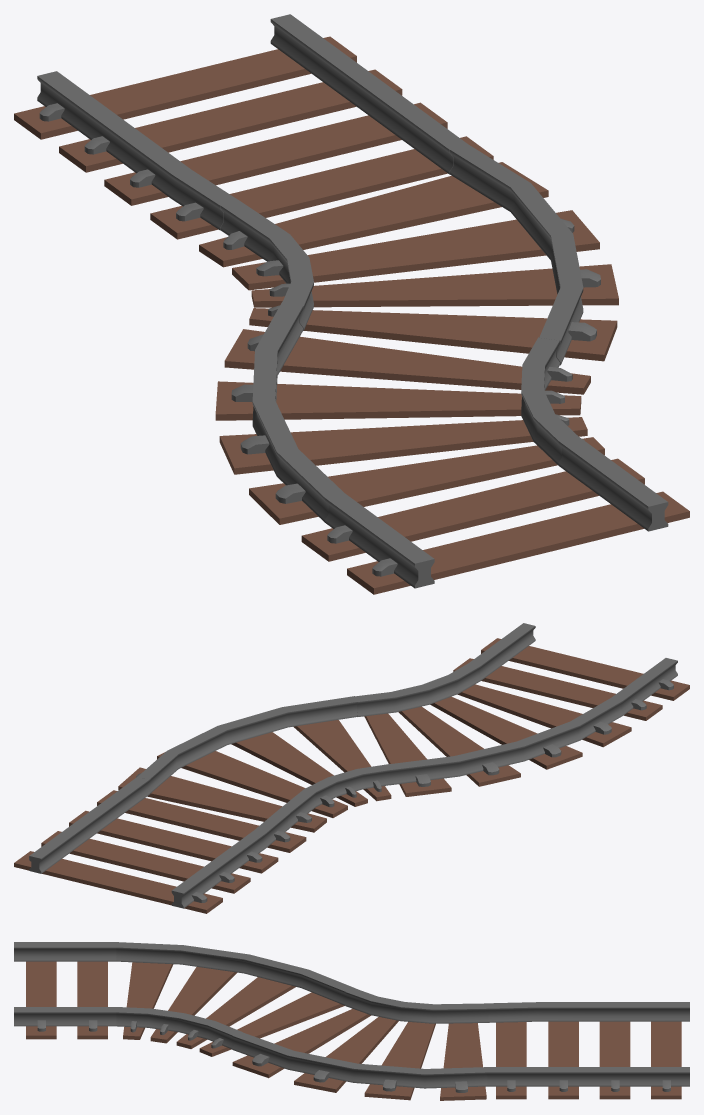
The model's file is trilho_S.fbx.
The picture shows the model from 3 angles, top to bottom: view 1: azimuth 30°, elevation 25°; view 2: azimuth 150°, elevation 25°; view 3: azimuth 270°, elevation 25°; orthographic projection. The views are drawn at different scales.
Visible parts, largest first — view 1: Trilho_S; view 2: Trilho_S; view 3: Trilho_S.
Part boxes in pixels (bbox=[...]): Trilho_S: bbox=[14, 14, 689, 594]; Trilho_S: bbox=[14, 623, 689, 913]; Trilho_S: bbox=[14, 942, 689, 1100].
Bounding box in the file's own units: 346 × 19.27 × 661.
